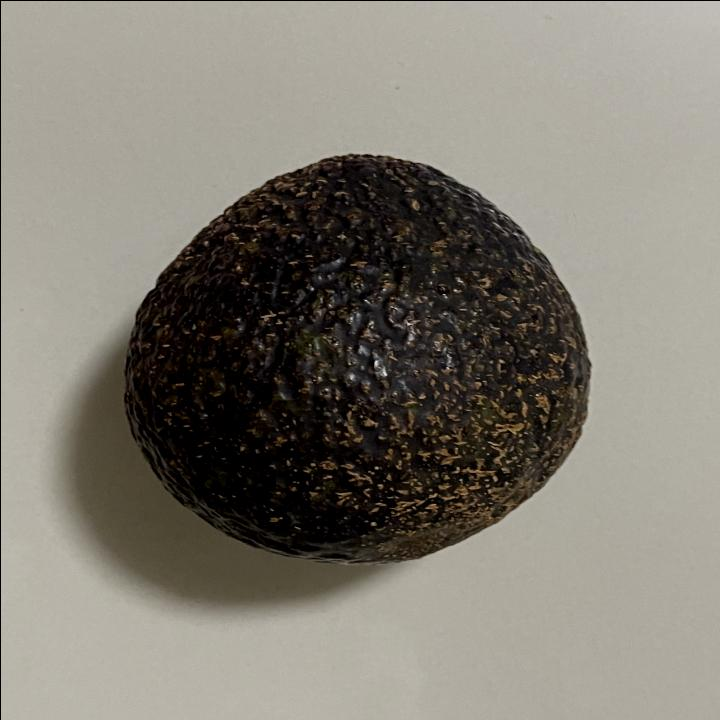Level2: (117, 144, 597, 574)
